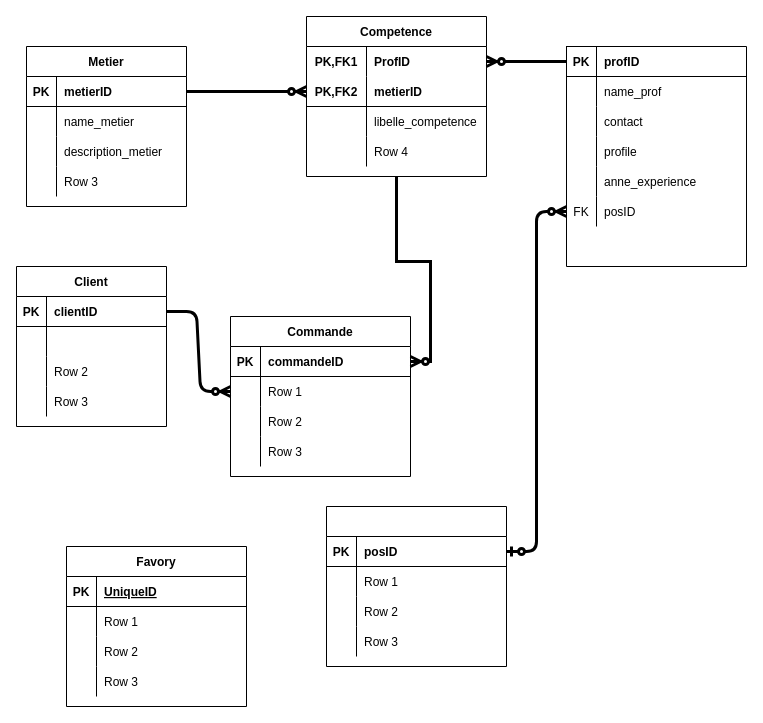
The diagram is 763 pixels wide and 723 high, and some of its shapes have lost their labels. Each missing label, with the box of its shape:
Position: (326, 506, 506, 666)
Professionnel: (566, 46, 746, 266)
